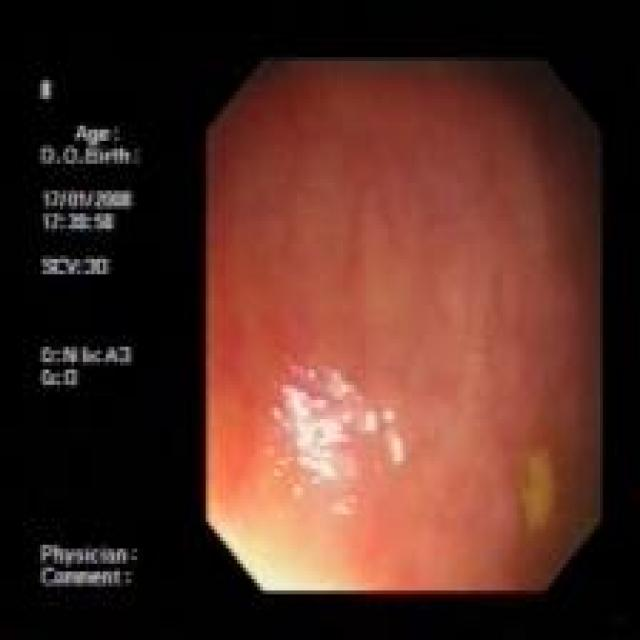color misalignment: (33, 72, 151, 607)
contrast: (506, 60, 599, 272)
saturation: (208, 414, 348, 590)
specularity: (268, 354, 404, 520)
